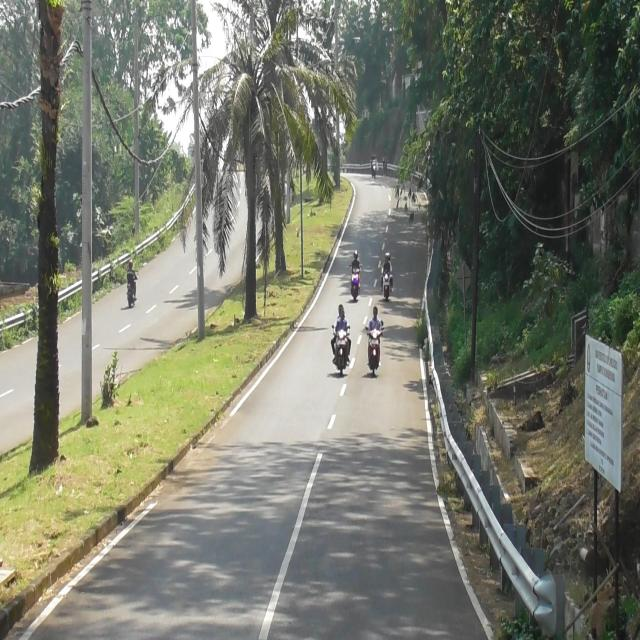motorcycle: (332, 328, 350, 374), (367, 328, 382, 376), (349, 264, 362, 301), (380, 265, 392, 301), (127, 281, 136, 307), (371, 158, 378, 178)
person: (331, 303, 351, 363), (366, 304, 385, 335), (380, 252, 394, 289), (334, 308, 349, 334), (126, 260, 136, 286), (349, 251, 362, 270), (382, 253, 392, 275), (371, 152, 376, 164)
rider_region: (330, 304, 352, 374), (365, 304, 383, 378), (380, 250, 395, 300), (349, 248, 363, 300), (125, 256, 139, 307), (371, 146, 378, 179)
